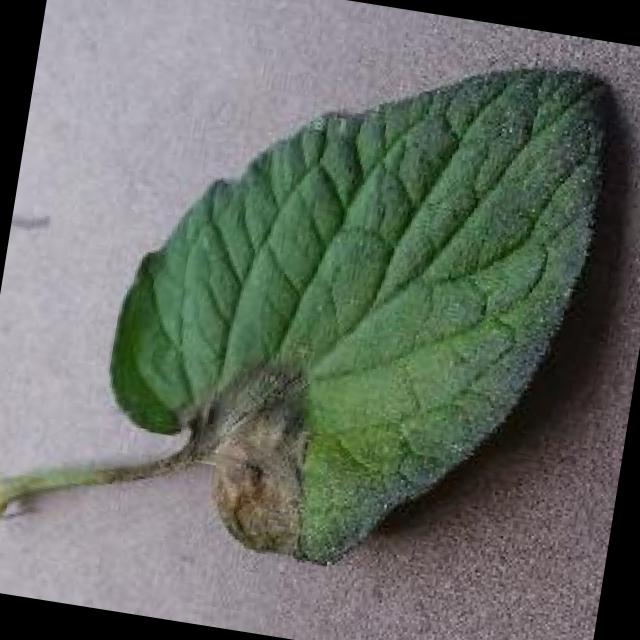Tomato_Late_Blight: (154, 336, 352, 566)
